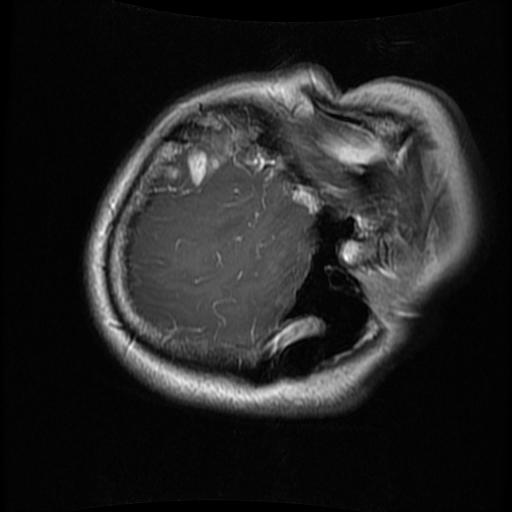glioma: (183, 125, 253, 186)
